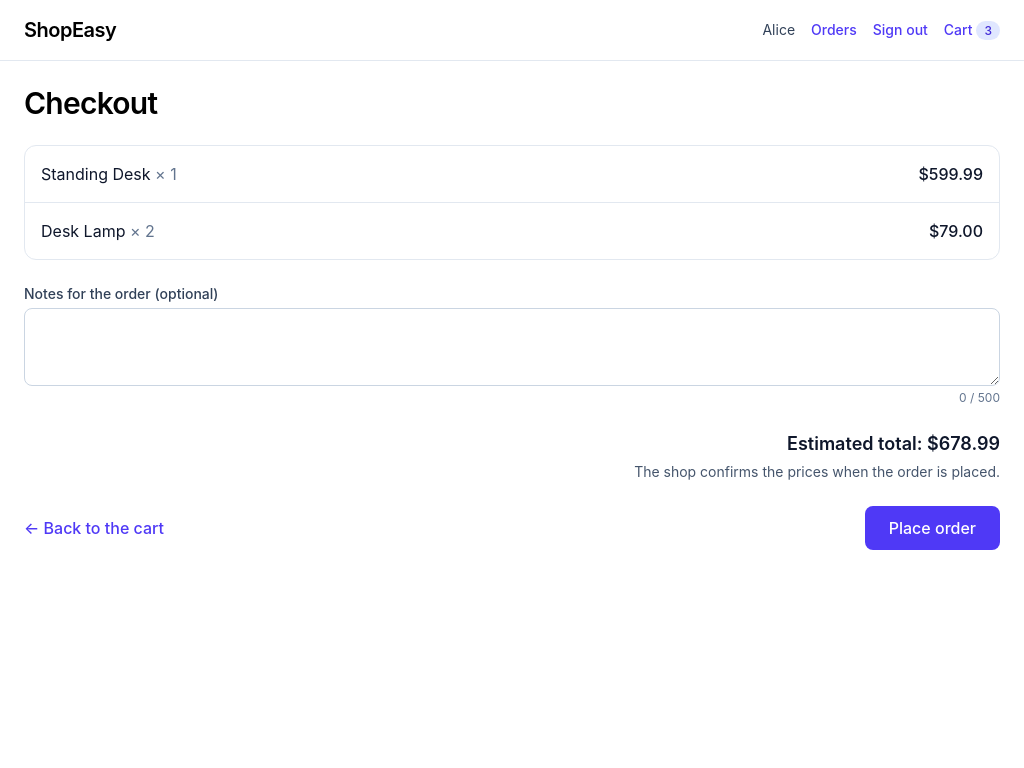
it: CheckoutPage › shows what the shop said was wrong, and keeps the cart
The image size is (1024, 768).
Click the button "Place order". click: (932, 528)
box: [865, 506, 1000, 550]
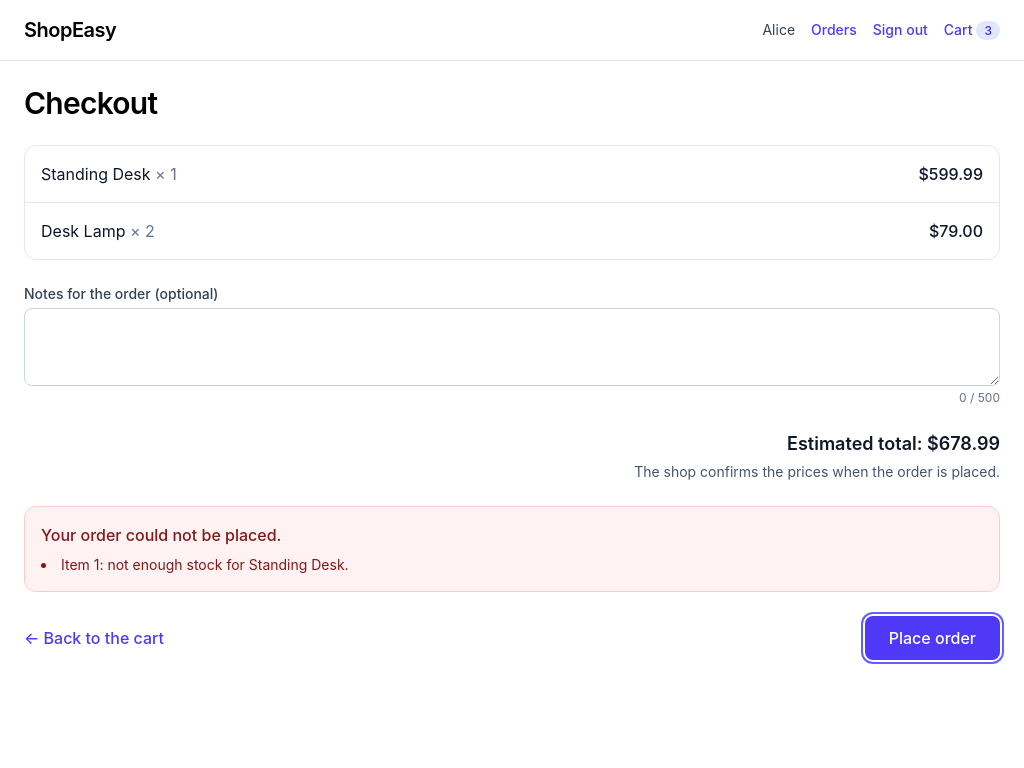
Expected: the button "Place order" is enabled, [865, 616, 1000, 660]
Expected: the message shows "Your order could not be placed.", [41, 525, 281, 545]
Expected: the message shows "Item 1: not enough stock for Standing Desk.", [61, 556, 349, 573]
